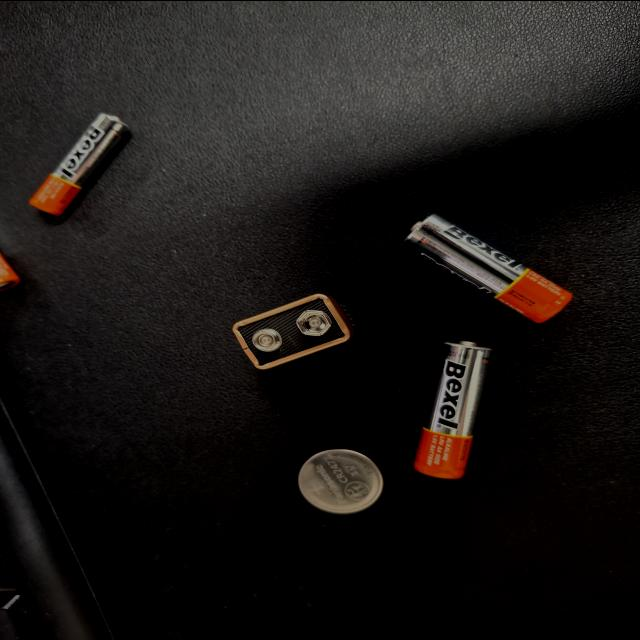9V: (388, 368, 493, 468)
AA: (286, 213, 428, 335), (453, 272, 637, 332)
AAA: (150, 542, 290, 618), (326, 623, 389, 640)
COIN: (594, 351, 640, 418)
